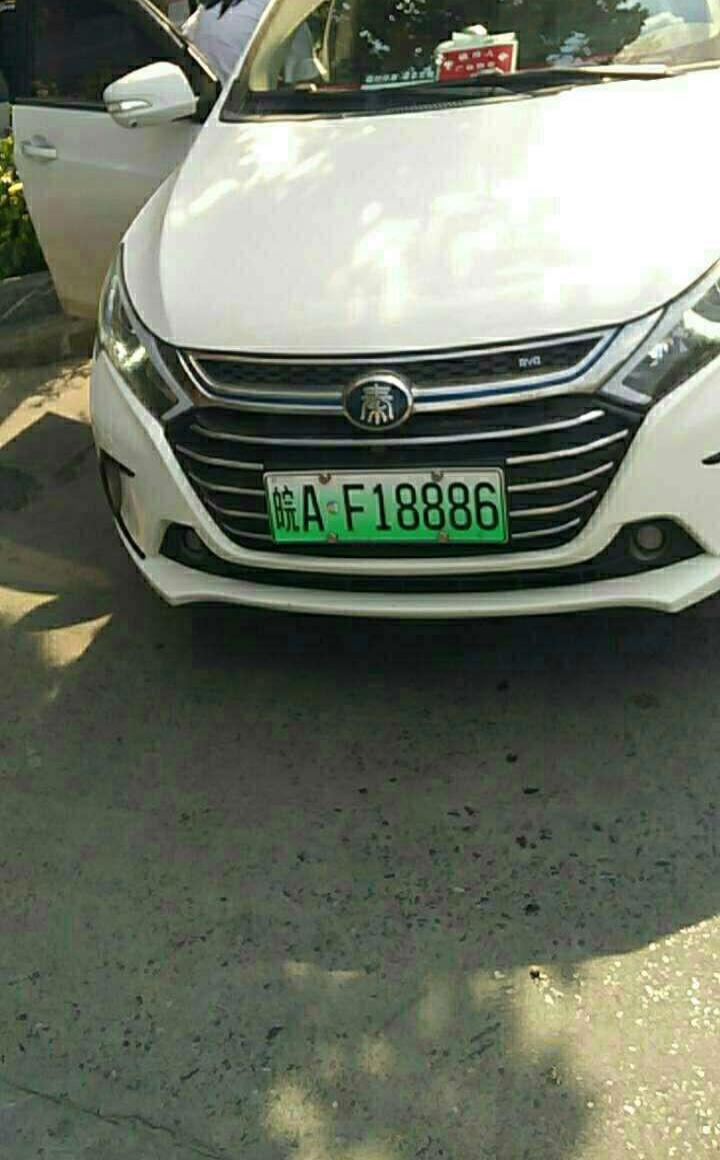car_id: (269, 468, 506, 546)
